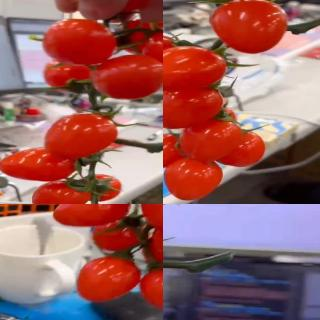tomato: (211, 0, 289, 55), (44, 114, 119, 162), (43, 19, 117, 67), (91, 53, 163, 100), (74, 255, 141, 304), (180, 118, 244, 166), (163, 45, 225, 92), (0, 148, 79, 184), (163, 86, 223, 131), (163, 158, 222, 202), (91, 215, 154, 253), (212, 130, 266, 168), (56, 204, 132, 227), (30, 179, 92, 204), (136, 26, 163, 79), (163, 131, 195, 168), (139, 266, 163, 314), (78, 0, 130, 21), (86, 173, 124, 201), (147, 220, 163, 269), (140, 204, 163, 233), (163, 32, 179, 70)
